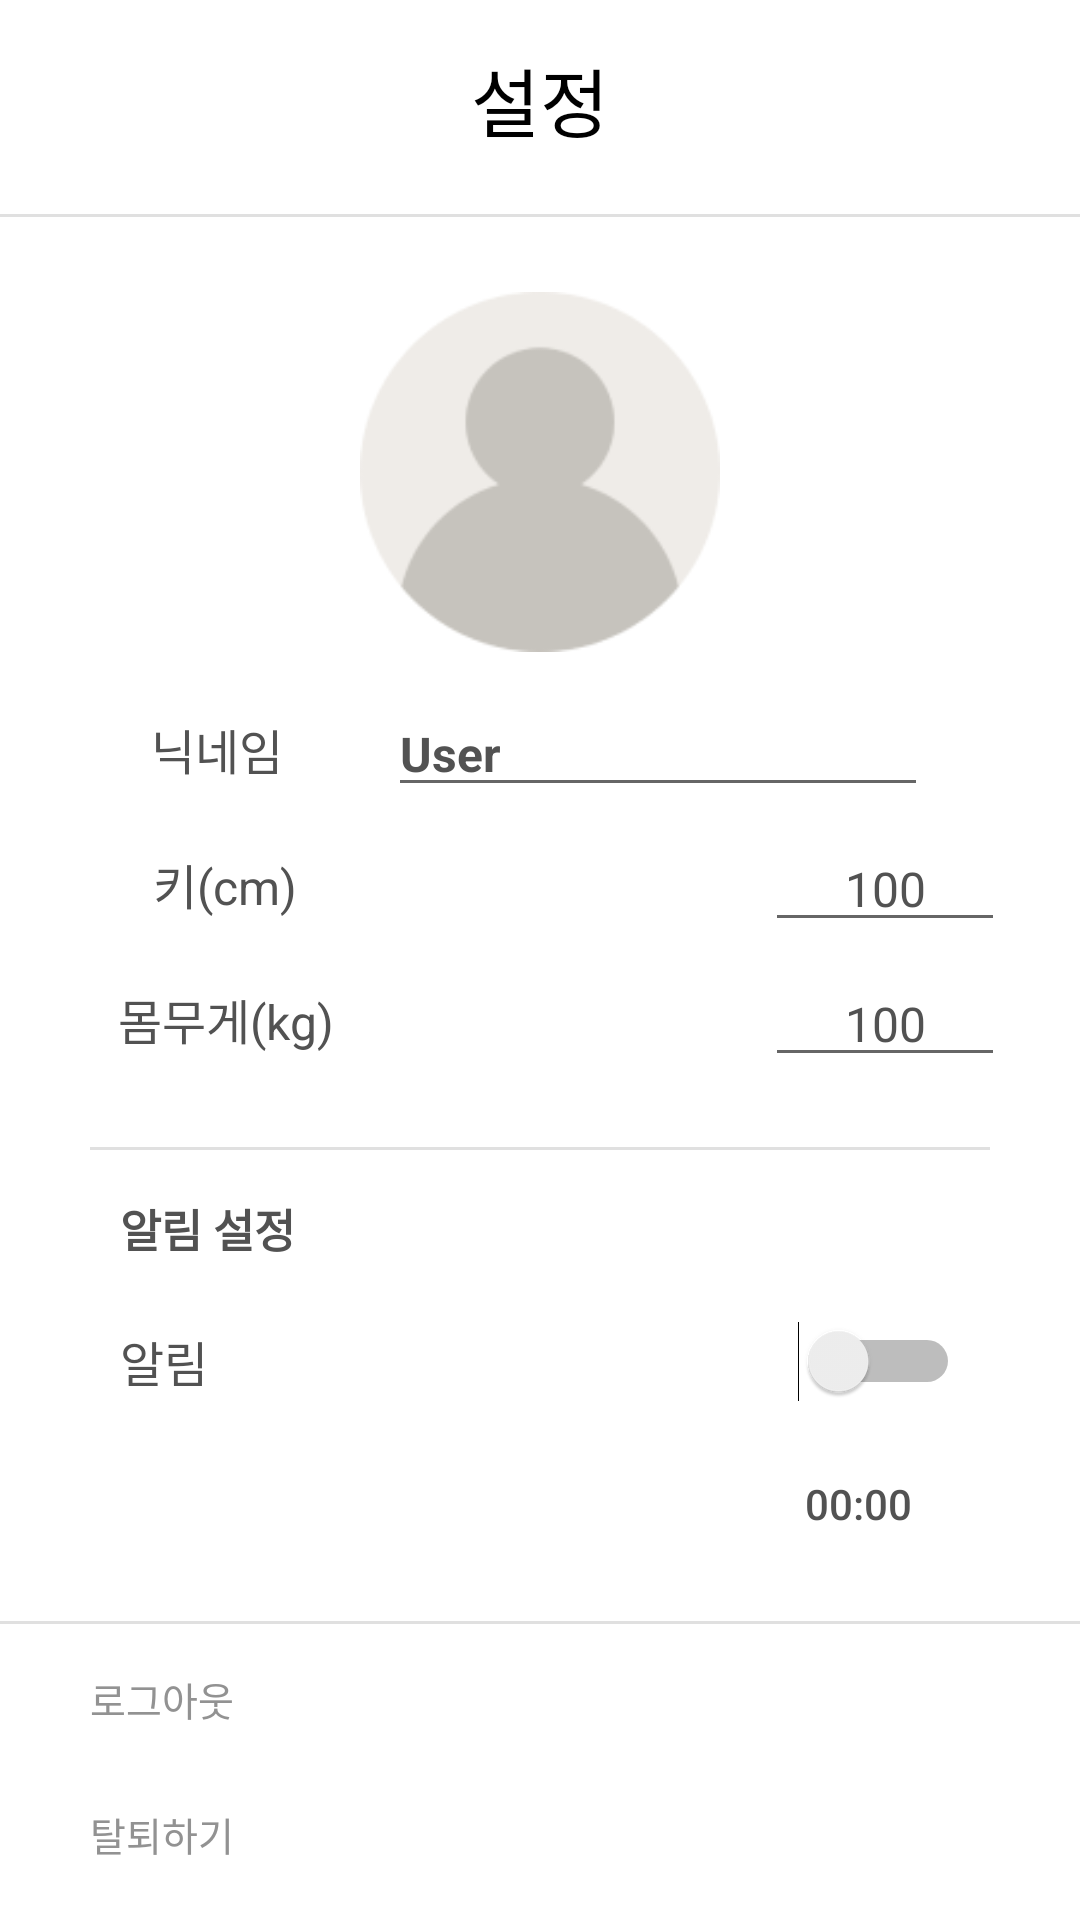

Named icons in this screenshot (1080px x 1920px) and their centers, (x,y):
profile: (540,499)
